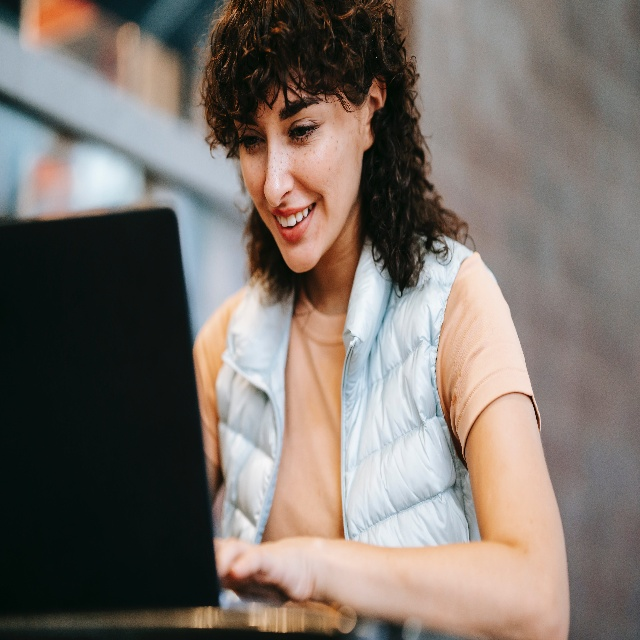Sin_guantes: (213, 536, 316, 603)
